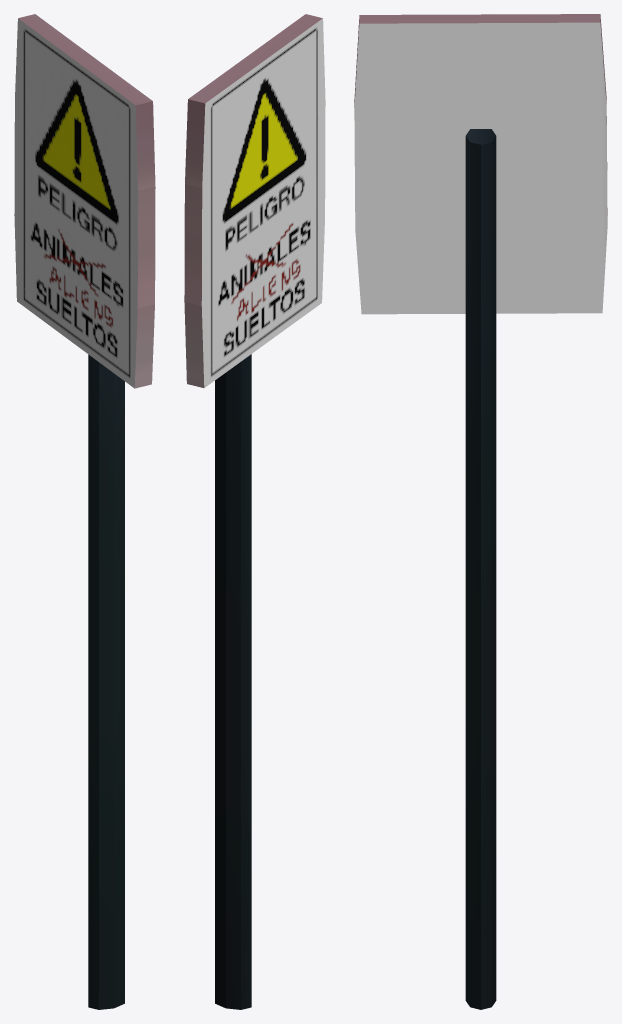
File: Cartel_Animales.fbx
3 renders of one model, left to right at view 1: azimuth 30°, elevation 25°; view 2: azimuth 150°, elevation 25°; view 3: azimuth 270°, elevation 25°, orthographic. The views are drawn at different scales.
Visible parts, largest first — view 1: Cartel_Animales; view 2: Cartel_Animales; view 3: Cartel_Animales.
Boxes of the visible parts, bbox=[...] form: Cartel_Animales: bbox=[14, 14, 155, 1009]; Cartel_Animales: bbox=[184, 14, 325, 1009]; Cartel_Animales: bbox=[354, 14, 607, 1009].
Size of the model in its own units: 0.1326 by 0.5834 by 2.47.
1 material, 1 textured.
